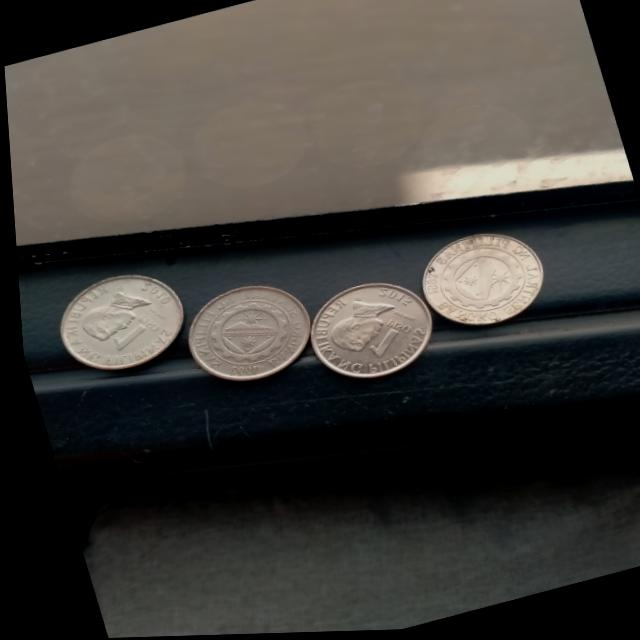1_Old_Back: (191, 289, 302, 380), (427, 238, 536, 321)
